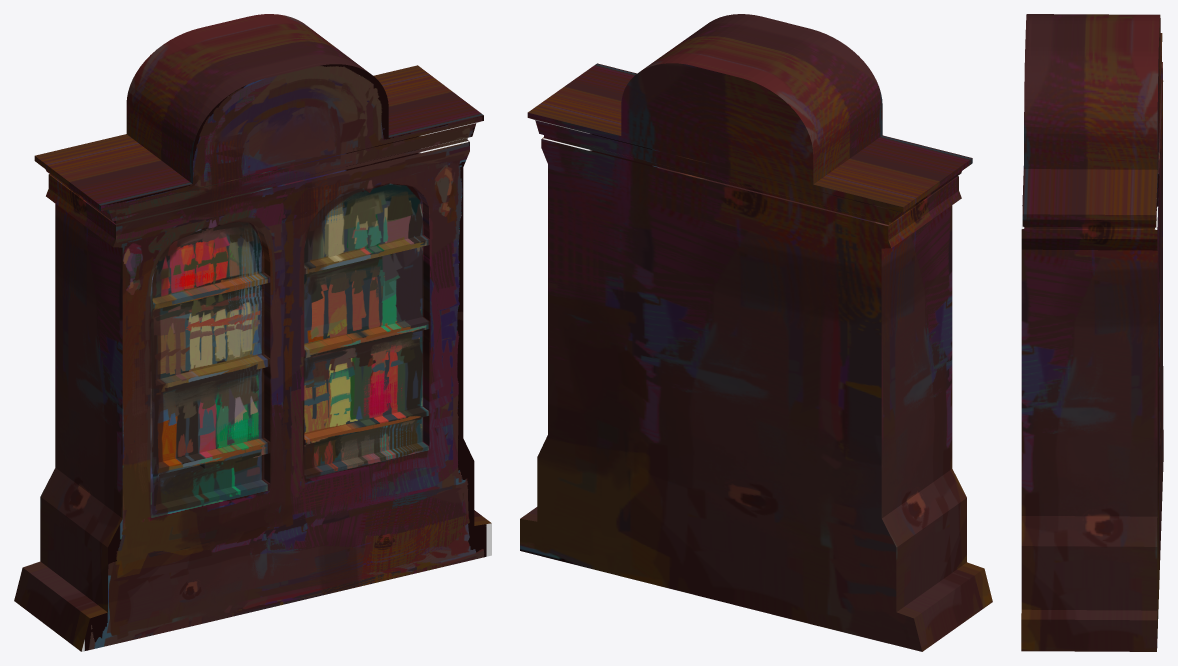
File: bookshelf_ornate.glb
The picture shows the model from 3 angles, left to right: view 1: azimuth 30°, elevation 25°; view 2: azimuth 150°, elevation 25°; view 3: azimuth 270°, elevation 25°; orthographic projection.
Parts seen in each view (by area): view 1: Cube.039; view 2: Cube.039; view 3: Cube.039.
Boxes of the visible parts, left/top/right/bottom form: Cube.039: left=14, top=14, right=491, bottom=651; Cube.039: left=520, top=14, right=992, bottom=651; Cube.039: left=1021, top=14, right=1163, bottom=651.
Bounding box in the file's own units: 2.56 × 3.18 × 0.7874.
1 material, 1 textured.
